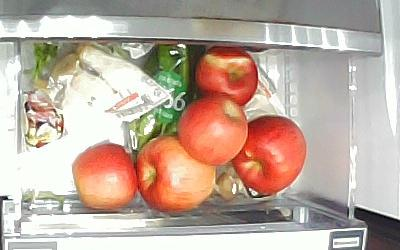apple: (138, 133, 215, 214), (233, 114, 308, 197), (177, 93, 248, 166), (72, 141, 137, 213), (194, 45, 260, 105)
